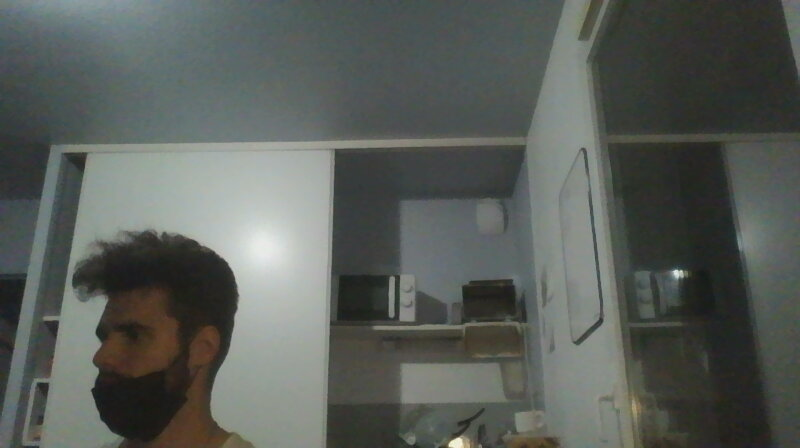with_incorrect_mask: (87, 301, 188, 439)
